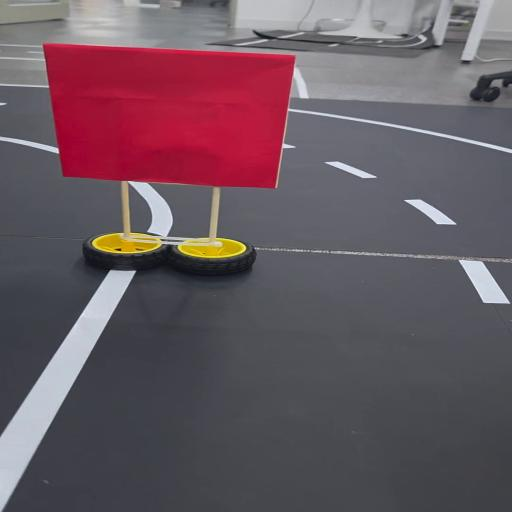Sign_A: (28, 27, 294, 280)
